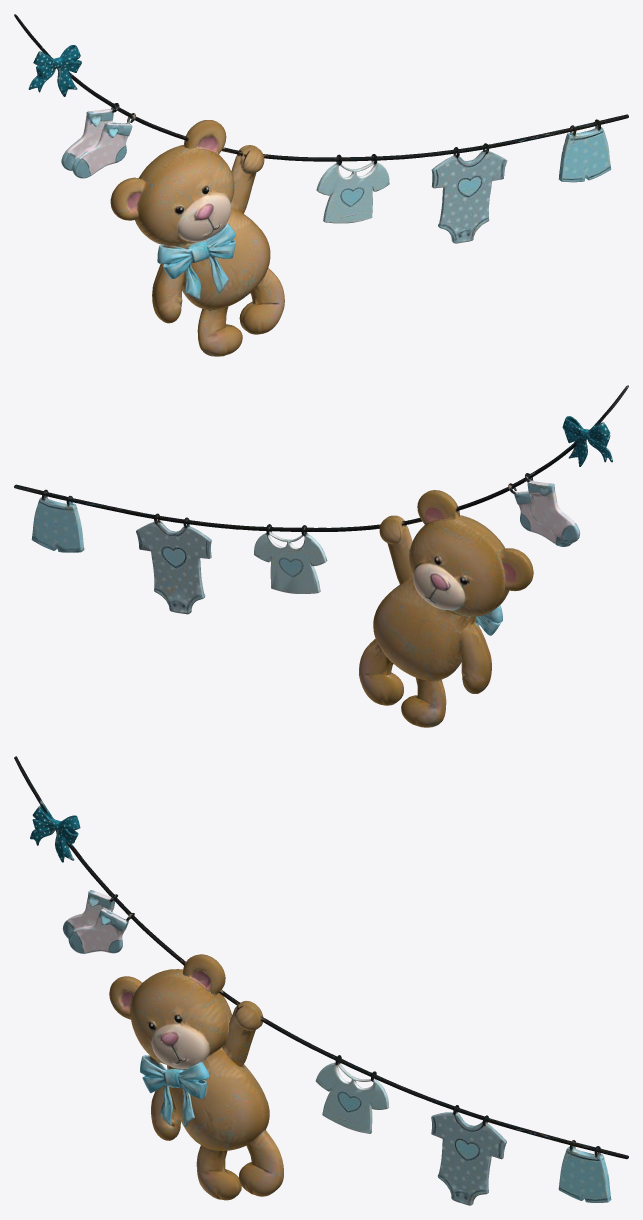
3 views of the same model, one above another, from view 1: azimuth 30°, elevation 25°; view 2: azimuth 150°, elevation 25°; view 3: azimuth 330°, elevation 25° (orthographic).
Size of the model in its own units: 1.9 by 1.16 by 0.1944.
1 material, 1 textured.
